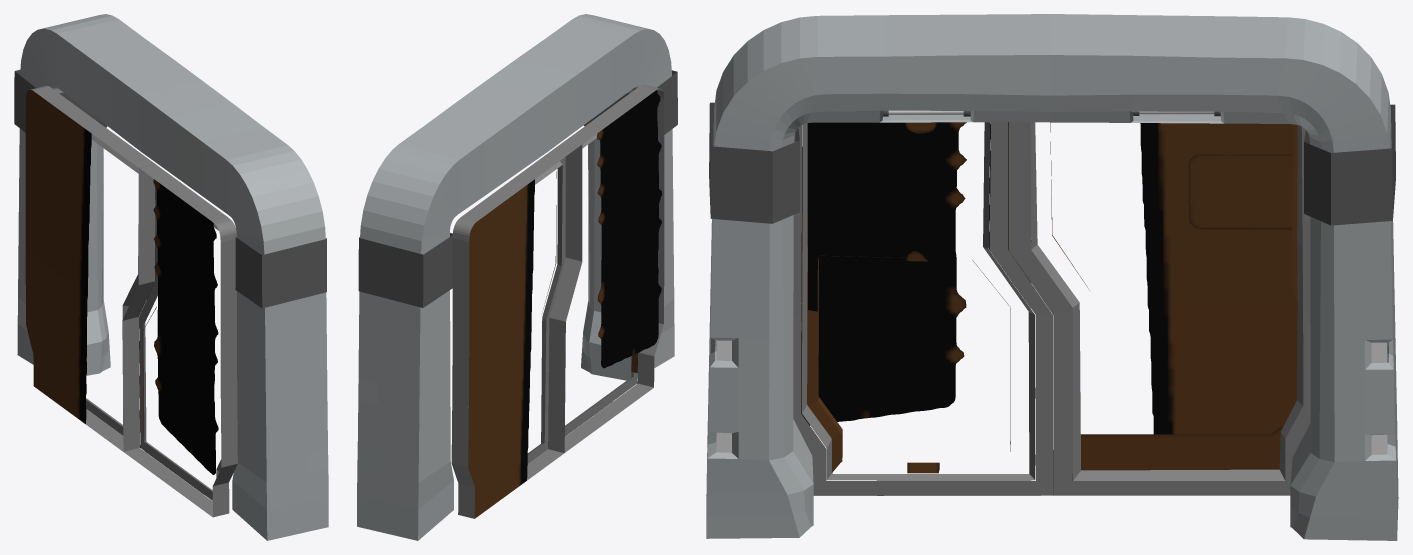
The model's file is Gate_03.fbx.
3 renders of one model, left to right at view 1: azimuth 30°, elevation 25°; view 2: azimuth 150°, elevation 25°; view 3: azimuth 270°, elevation 25°, orthographic. The views are drawn at different scales.
Visible parts, largest first — view 1: Pasillo puerta, Puerta izquierda, Puerta derecha; view 2: Pasillo puerta, Puerta derecha, Puerta izquierda; view 3: Pasillo puerta, Puerta derecha, Puerta izquierda.
Boxes of the visible parts, left/top/right/bottom form: Pasillo puerta: left=14, top=14, right=328, bottom=540; Puerta izquierda: left=124, top=164, right=237, bottom=517; Puerta derecha: left=25, top=85, right=154, bottom=451; Pasillo puerta: left=357, top=14, right=677, bottom=540; Puerta derecha: left=451, top=140, right=582, bottom=518; Puerta izquierda: left=548, top=84, right=664, bottom=452; Pasillo puerta: left=706, top=14, right=1398, bottom=540; Puerta derecha: left=1008, top=122, right=1310, bottom=495; Puerta izquierda: left=793, top=122, right=1053, bottom=495.
Size of the model in its own units: 58.71 by 227 by 294.
